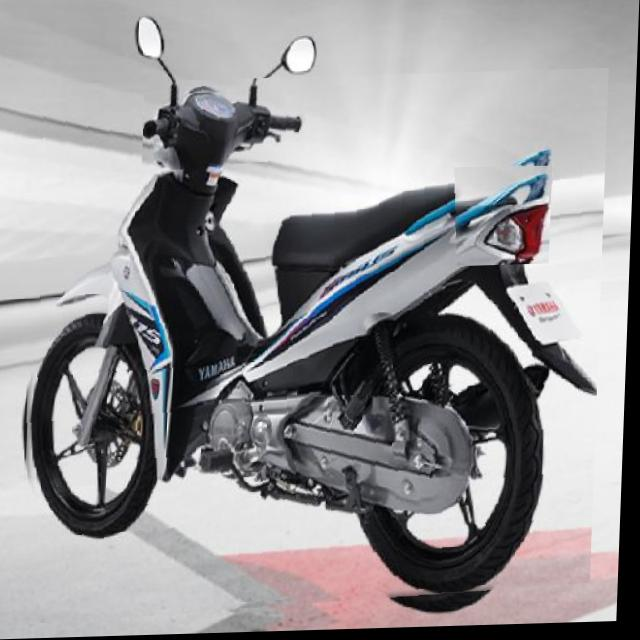All: (17, 72, 609, 626)
Head: (143, 92, 307, 174)
Tail: (453, 168, 554, 269)
